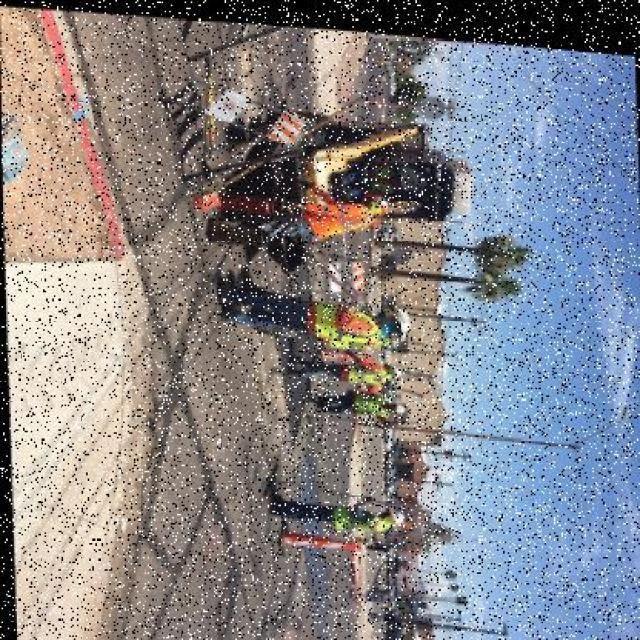vest: (292, 174, 370, 240), (296, 292, 384, 346), (320, 492, 382, 528), (328, 348, 387, 384), (335, 383, 387, 413)
